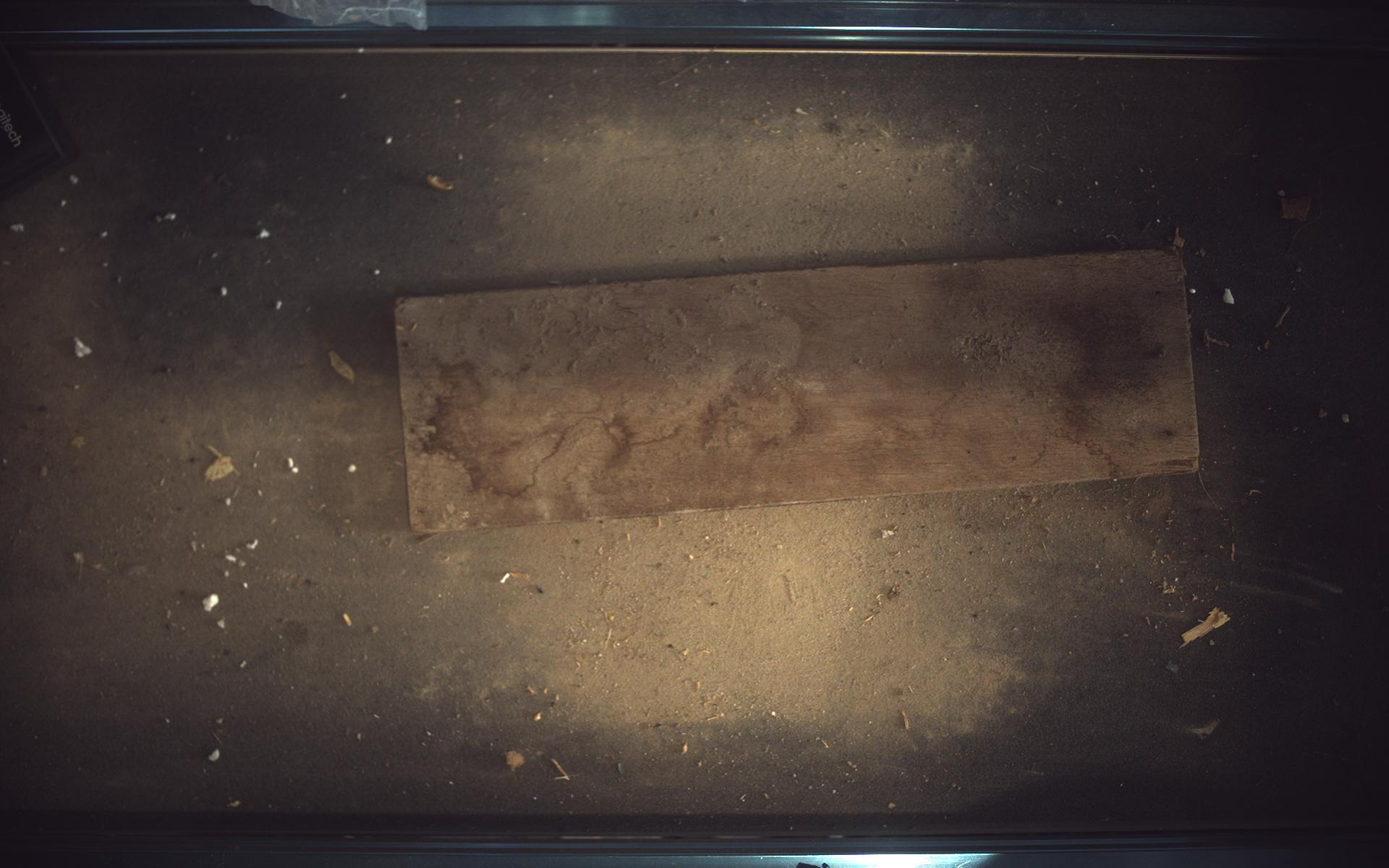wood: (395, 250, 1202, 535)
